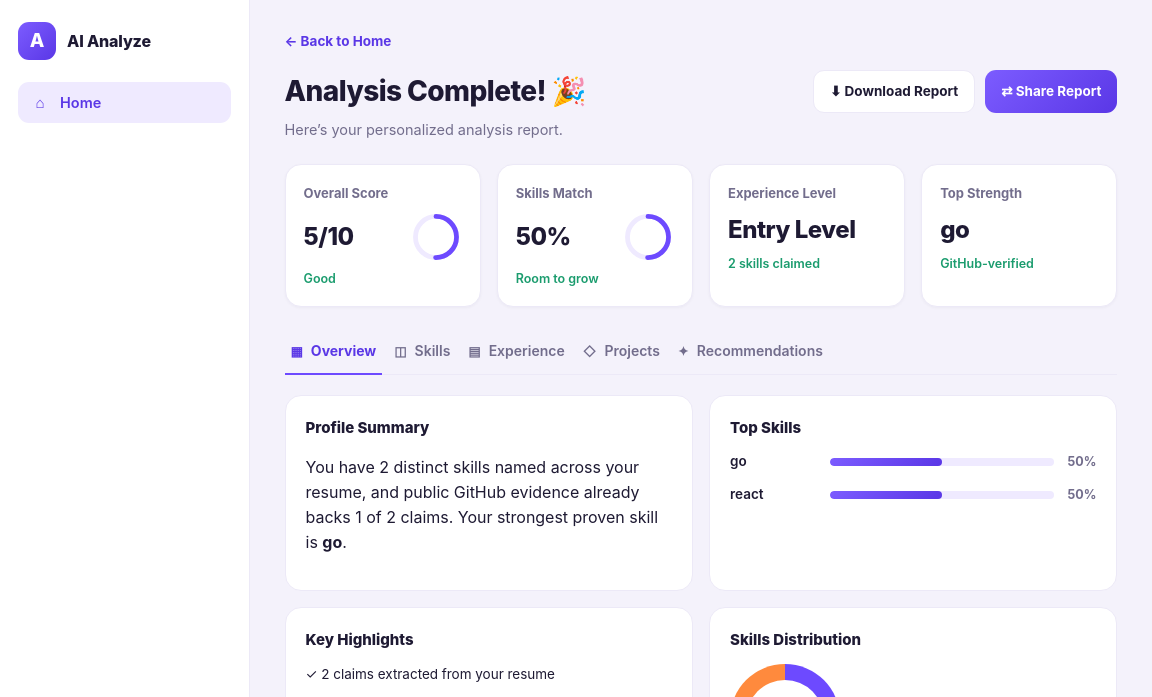
Scenario: AnalysisDashboard › copies a share summary to the clipboard and shows 'Copied!' when Share Report is clicked
Click the button "⇄ Share Report": point(1051, 91) [985,70,1118,113]
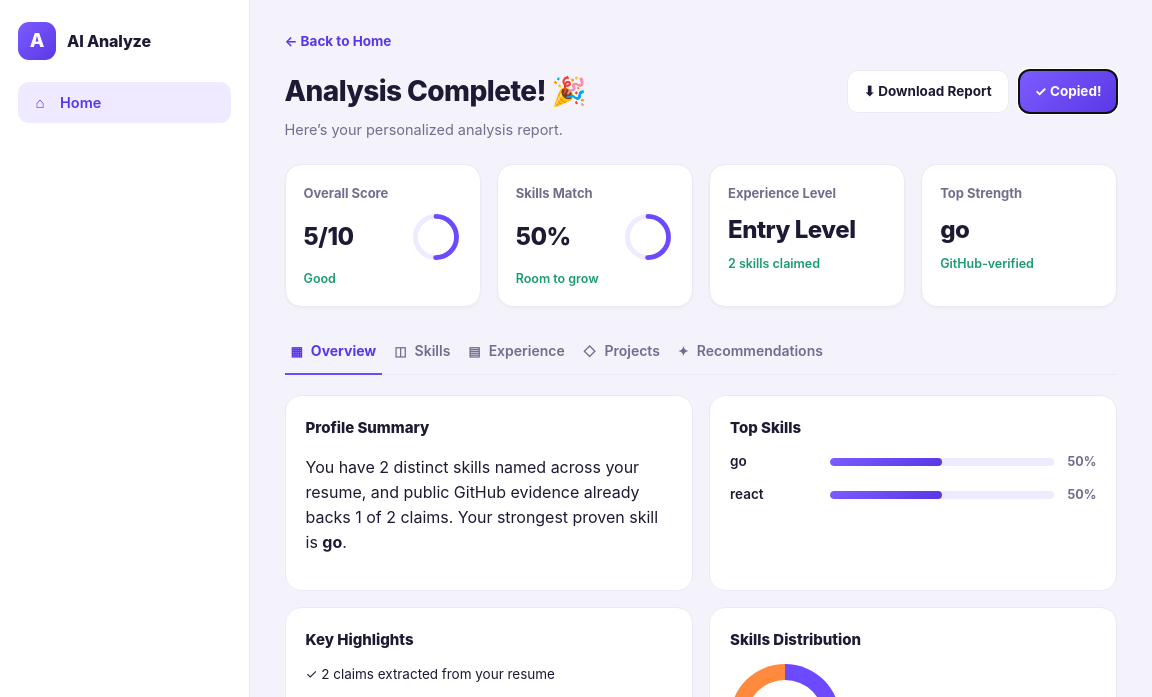
Expected: the button "✓ Copied!" is shown, [1019,70,1118,113]
